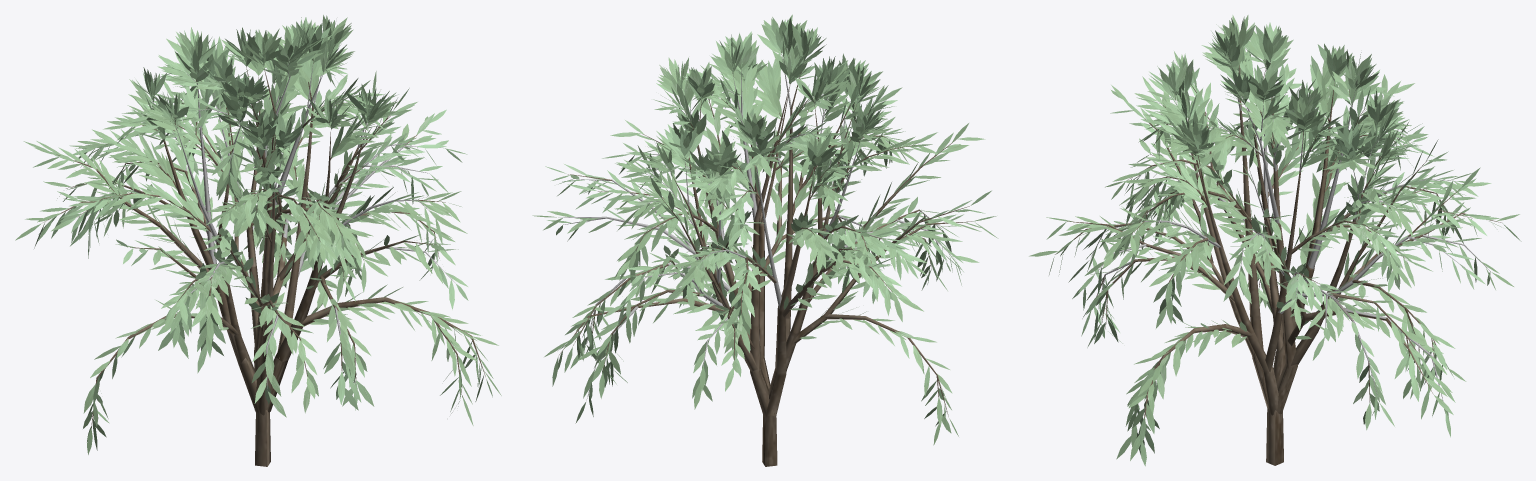
3 renders of one model, left to right at view 1: azimuth 30°, elevation 25°; view 2: azimuth 150°, elevation 25°; view 3: azimuth 270°, elevation 25°, orthographic. The views are drawn at different scales.
Visible parts, largest first — view 1: leaves, tree; view 2: leaves, tree; view 3: leaves, tree.
Boxes of the visible parts, x1,y1,x2,y2 form: leaves: [15, 15, 501, 454]; tree: [43, 58, 485, 466]; leaves: [532, 14, 998, 445]; tree: [558, 51, 972, 466]; leaves: [1029, 15, 1521, 466]; tree: [1055, 57, 1501, 465].
Bounding box in the file's own units: 5.7 × 5.92 × 6.02.
1 material, 1 textured.
